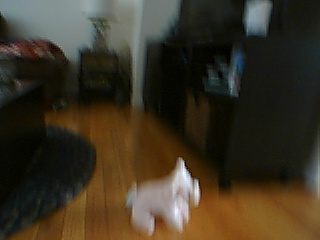piggy: (127, 156, 202, 235)
